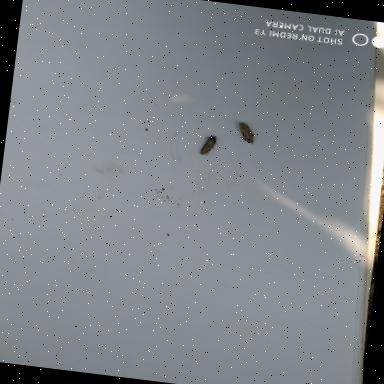pbw: (232, 120, 262, 148), (197, 133, 219, 157)
